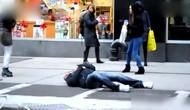falling: (61, 56, 153, 93)
